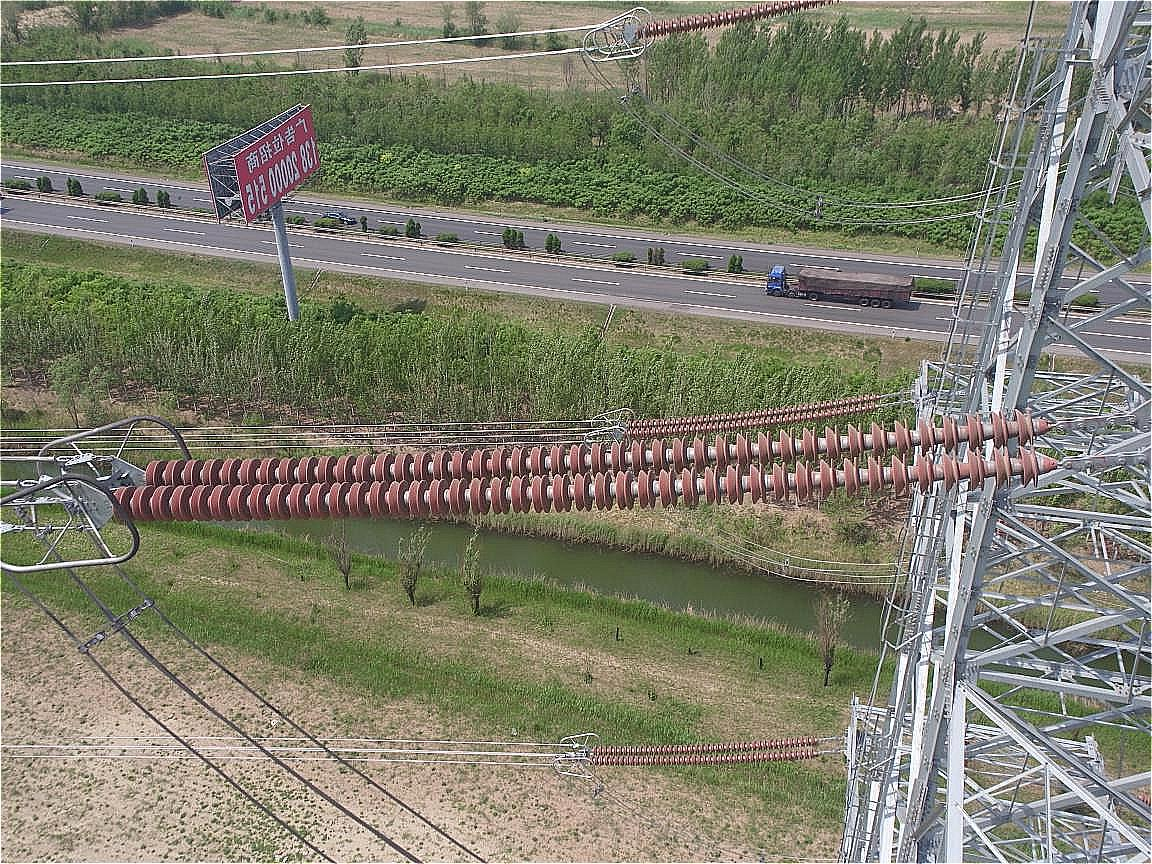insultor2: (89, 403, 1076, 545), (610, 378, 897, 439), (596, 730, 823, 780), (616, 1, 835, 44)
